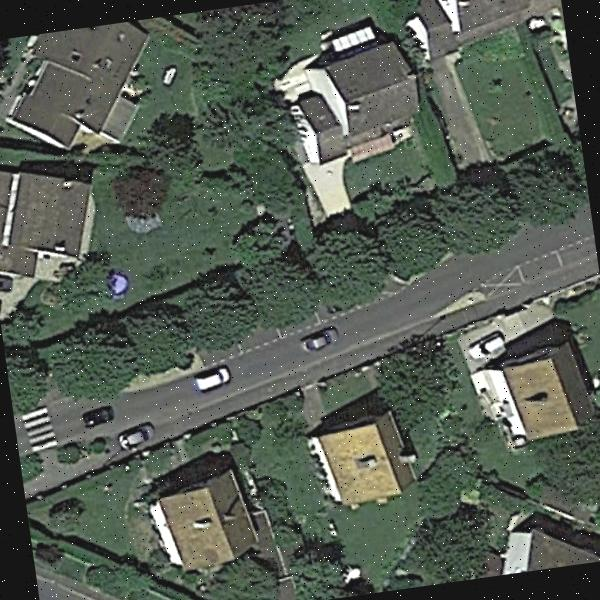Buildings: (17, 18, 162, 152), (271, 47, 423, 159), (0, 155, 100, 275), (489, 352, 597, 440), (144, 484, 248, 568), (420, 0, 566, 59), (320, 428, 415, 503), (491, 519, 597, 575)
